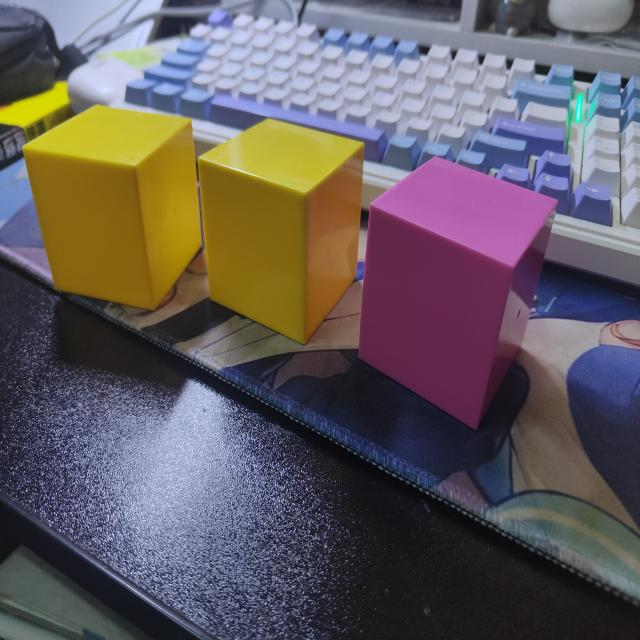pink: (357, 158, 556, 431)
yellow: (20, 105, 202, 314), (197, 120, 365, 346)
